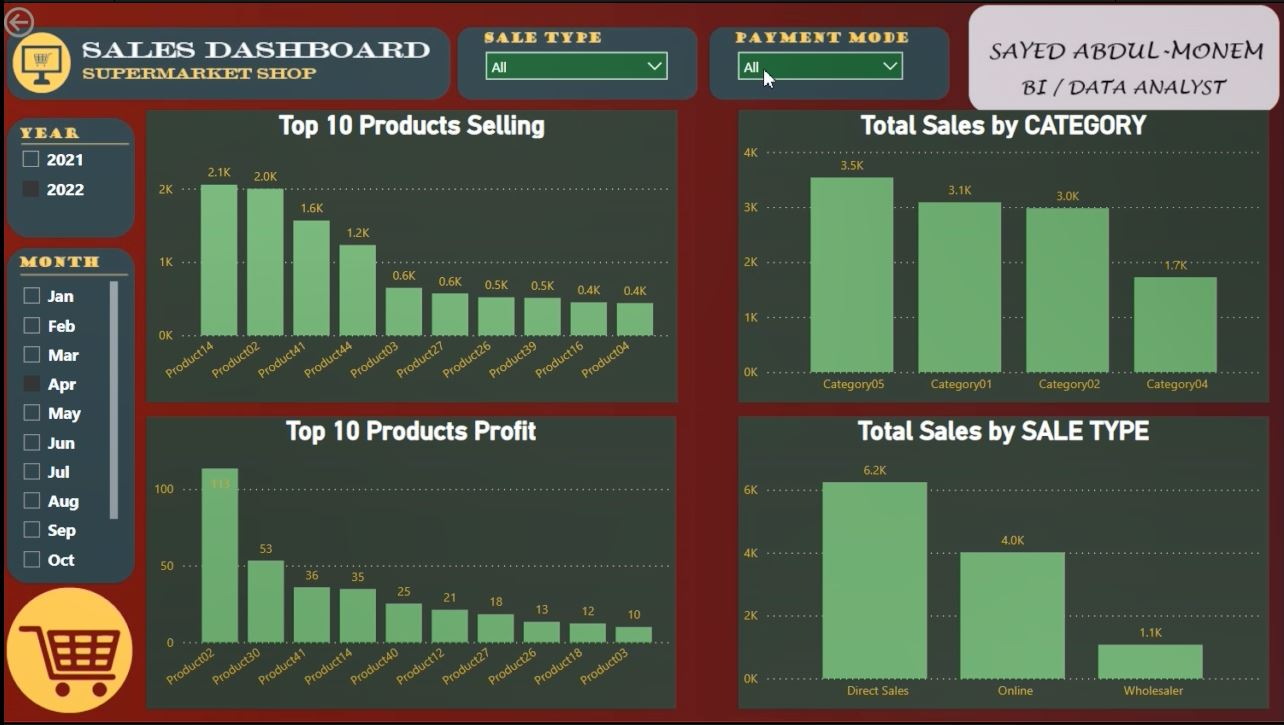

What the dashboard file says about the page in this screenshot:
{"tool":"powerbi","page":{"name":"Charts","canvas":[1280,720],"ordinal":3},"visuals":[{"type":"columnChart","fields":{"Y":["Sum(InputData.Total Selling Value)"],"Category":["InputData.MasterData.CATEGORY"]},"box":[734,107,526,290.5],"z":0},{"type":"columnChart","title":"Total Sales by SALE TYPE","fields":{"Category":["InputData.SALE TYPE"],"Y":["Sum(InputData.Total Selling Value)"]},"box":[734,411.5,526,290.5],"z":1000},{"type":"columnChart","title":"Top 10 Products Selling","fields":{"Y":["Sum(InputData.Total Selling Value)"],"Category":["InputData.MasterData.PRODUCT"]},"box":[146,107,526.8,290],"z":2000},{"type":"columnChart","title":"Top 10 Products Profit","fields":{"Category":["InputData.MasterData.PRODUCT"],"Y":["Sum(InputData.Product Profit)"]},"box":[146,411.5,525.5,290.5],"z":3000},{"type":"actionButton","box":[0,0,100,40],"z":4000},{"type":"slicer","title":"YEAR","fields":{"Values":["InputData.Year"]},"box":[11,136.3,111,90.1],"z":5000},{"type":"slicer","title":"PAYMENT MODE","fields":{"Values":["InputData.PAYMENT MODE"]},"box":[723.3,39.6,183.6,49.5],"z":6000},{"type":"slicer","title":"Month","fields":{"Values":["InputData.Month Name"]},"box":[12.1,272.6,111,296.8],"z":7000},{"type":"slicer","title":"SALE TYPE","fields":{"Values":["InputData.SALE TYPE"]},"box":[472.7,39.6,200.1,48.4],"z":8000}]}

Visuals, with their boxes in screenshot pixels (x1, y1, x2, y2), scaled from the page's 1280x720 canvas onto the 1284x725 screenshot:
columnChart - Sum(InputData.Total Selling Value) x InputData.MasterData.CATEGORY: x1=736, y1=108, x2=1264, y2=400
"Total Sales by SALE TYPE" columnChart: x1=736, y1=414, x2=1264, y2=707
"Top 10 Products Selling" columnChart: x1=146, y1=108, x2=675, y2=400
"Top 10 Products Profit" columnChart: x1=146, y1=414, x2=674, y2=707
actionButton: x1=0, y1=0, x2=100, y2=40
"YEAR" slicer: x1=11, y1=137, x2=122, y2=228
"PAYMENT MODE" slicer: x1=726, y1=40, x2=910, y2=90
"Month" slicer: x1=12, y1=274, x2=123, y2=573
"SALE TYPE" slicer: x1=474, y1=40, x2=675, y2=89
